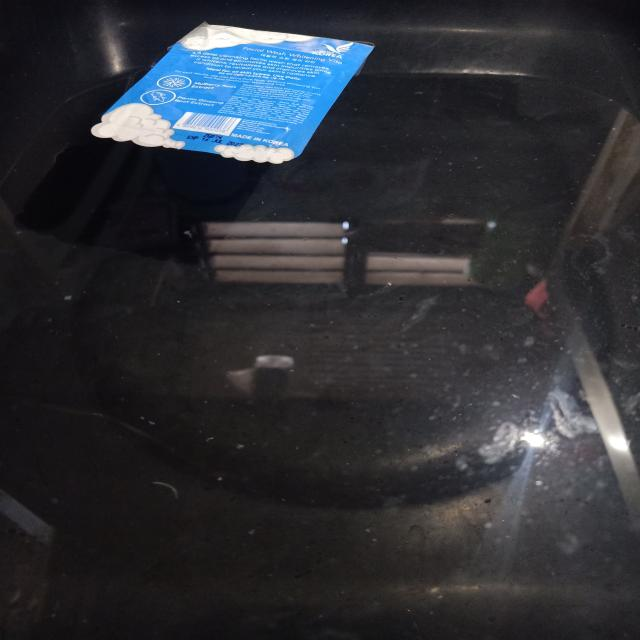Plastic Pouch: (91, 23, 372, 164)
